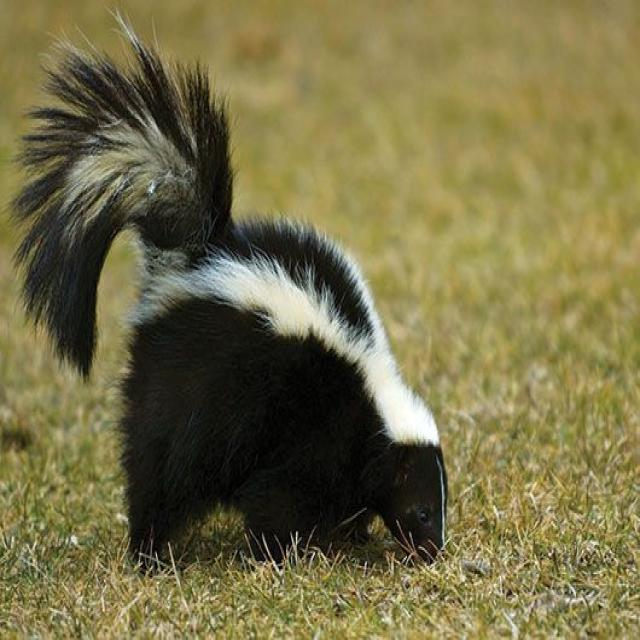Skunk: (0, 0, 460, 577)
